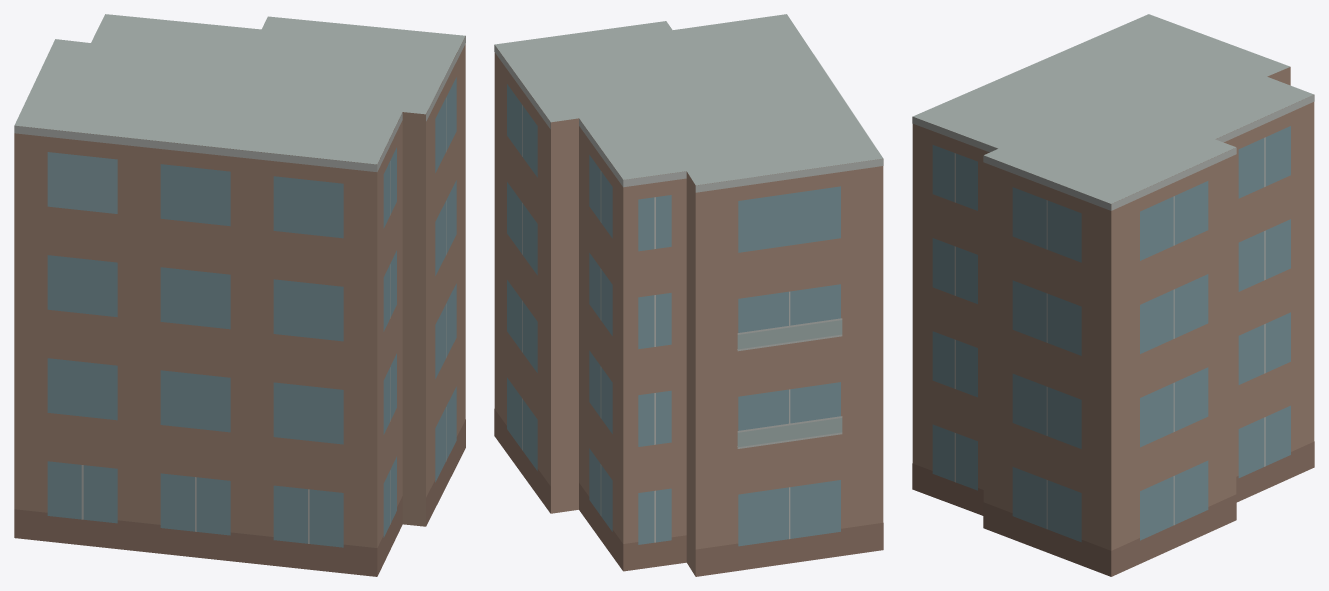
Rendered from survey-upis-32772148.glb.
3 views of the same model, side by side, from view 1: azimuth 30°, elevation 25°; view 2: azimuth 150°, elevation 25°; view 3: azimuth 270°, elevation 25° (orthographic). The views are drawn at different scales.
Parts seen in each view (by area): view 1: survey-upis-32772148.tmp; view 2: survey-upis-32772148.tmp; view 3: survey-upis-32772148.tmp.
Boxes of the visible parts, x1=… form: survey-upis-32772148.tmp: x1=14, y1=14, x2=465, y2=576; survey-upis-32772148.tmp: x1=494, y1=14, x2=883, y2=576; survey-upis-32772148.tmp: x1=912, y1=14, x2=1314, y2=576.
Bounding box in the file's own units: 14.21 × 13 × 12.7.
